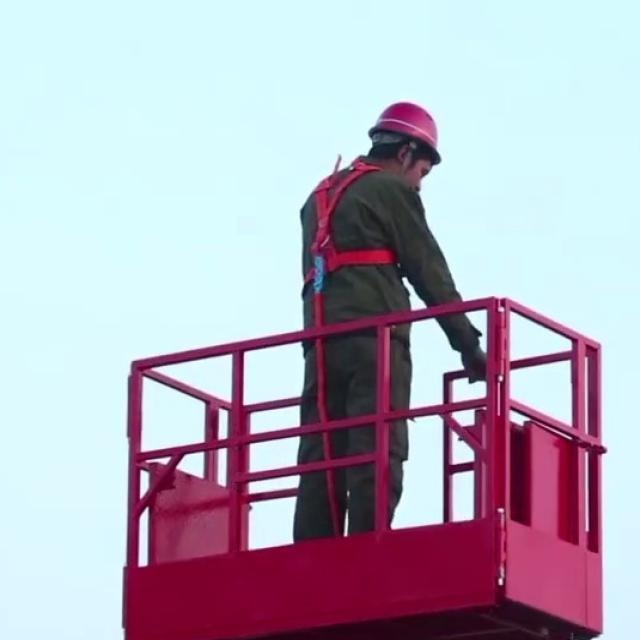Arnes_seguridad: (292, 149, 407, 299)
